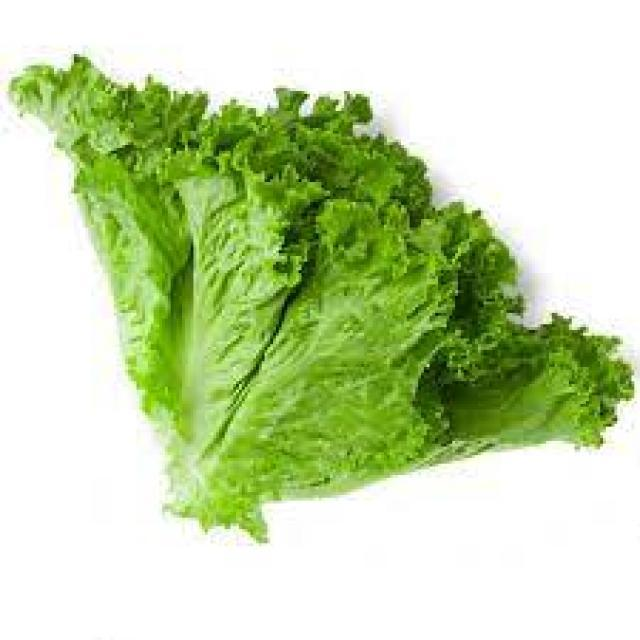Lettuce: (6, 47, 636, 540)
